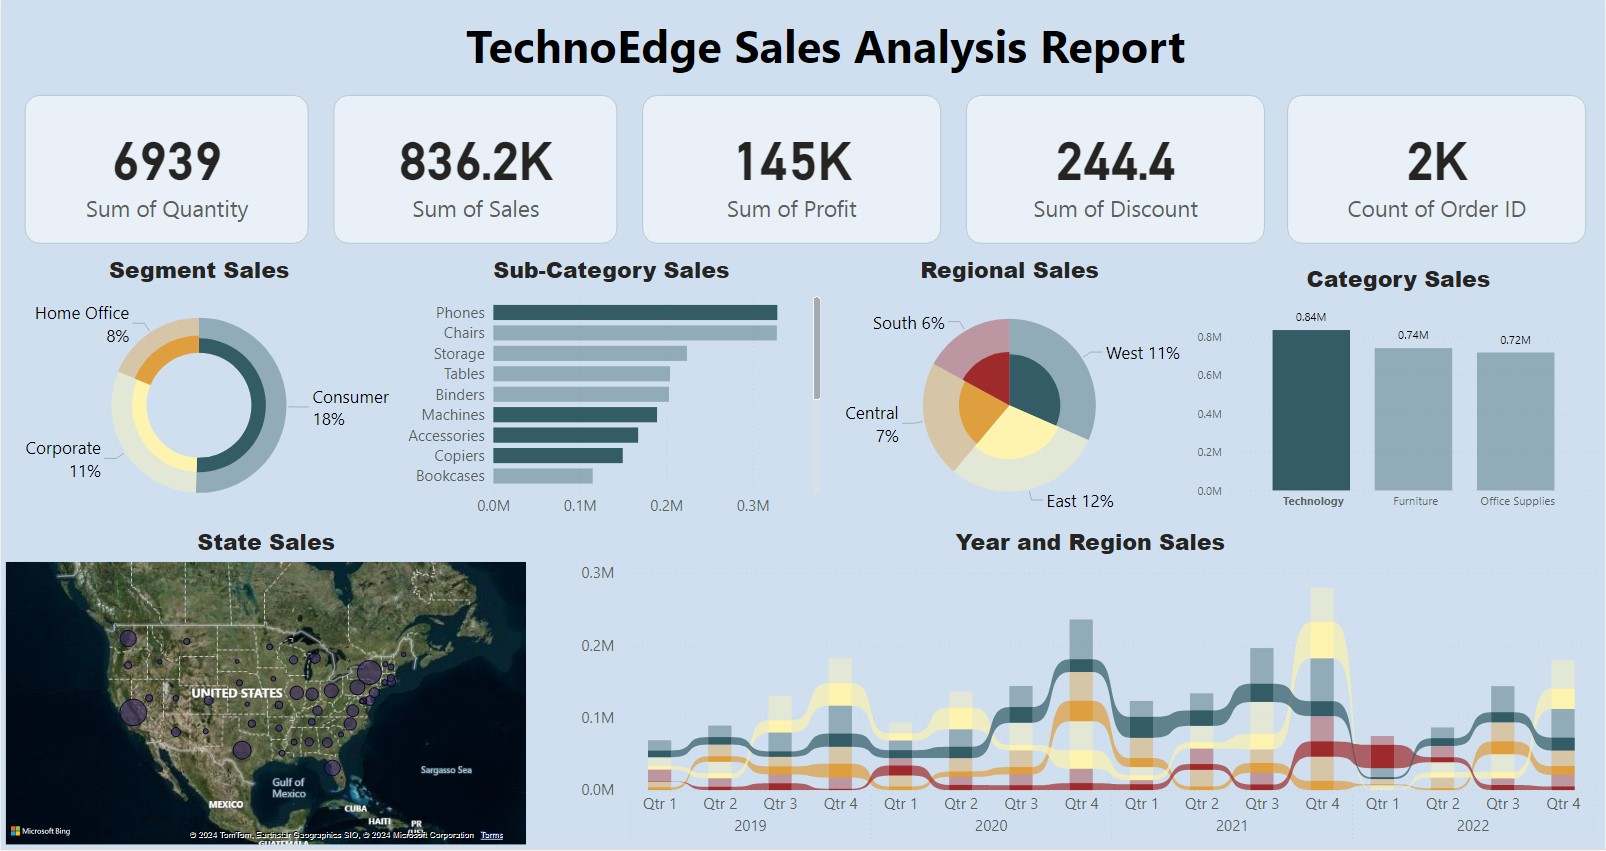

Layout of this report page (visuals, bound fields, positions):
{"tool":"powerbi","page":{"name":"Page 1","canvas":[1700,900],"ordinal":0},"visuals":[{"type":"barChart","title":"Sub-Category Sales","fields":{"Category":["Monthly Sales Data 2.Sub-Category"],"Y":["Sum(Monthly Sales Data 2.Sales)"]},"box":[420.1,268.7,454,288.8],"z":0},{"type":"pieChart","title":"Regional Sales","fields":{"Y":["Sum(Monthly Sales Data 2.Sales)"],"Category":["Monthly Sales Data 2.Region"]},"box":[874.1,268.7,389.2,288.8],"z":1},{"type":"donutChart","title":"Segment Sales","fields":{"Category":["Monthly Sales Data 2.Segment"],"Y":["Sum(Monthly Sales Data 2.Sales)"]},"box":[0,268.7,420.1,288.8],"z":2},{"type":"columnChart","title":"Category Sales","fields":{"Category":["Monthly Sales Data 2.Category"],"Y":["Sum(Monthly Sales Data 2.Sales)"]},"box":[1263.3,278,437,271.8],"z":3},{"type":"ribbonChart","title":"Year and Region Sales","fields":{"Category":["Monthly Sales Data 2.Order Date.Variation.Date Hierarchy.Year","Monthly Sales Data 2.Order Date.Variation.Date Hierarchy.Quarter","Monthly Sales Data 2.Order Date.Variation.Date Hierarchy.Month","Monthly Sales Data 2.Order Date.Variation.Date Hierarchy.Day"],"Y":["Sum(Monthly Sales Data 2.Sales)"],"Series":["Monthly Sales Data 2.Region"]},"box":[610,557.5,1090.3,342.8],"z":4},{"type":"actionButton","box":[461.8,6.2,826.2,88],"z":5},{"type":"map","title":"State Sales","fields":{"Category":["Monthly Sales Data 2.State"],"Size":["Sum(Monthly Sales Data 2.Sales)"]},"box":[0,557.5,562.1,342.8],"z":6},{"type":"card","fields":{"Values":["Sum(Monthly Sales Data 2.Sales)"]},"box":[352.1,100.4,301.1,157.5],"z":7},{"type":"card","fields":{"Values":["Sum(Monthly Sales Data 2.Discount)"]},"box":[1022.4,100.4,316.6,157.5],"z":8},{"type":"card","fields":{"Values":["Sum(Monthly Sales Data 2.Quantity)"]},"box":[24.7,100.4,301.1,157.5],"z":9},{"type":"card","fields":{"Values":["Sum(Monthly Sales Data 2.Profit)"]},"box":[679.5,100.4,316.6,157.5],"z":10},{"type":"card","fields":{"Values":["CountNonNull(Monthly Sales Data 2.Order ID)"]},"box":[1363.6,100.4,316.6,157.5],"z":11}]}

Visuals, with their boxes in screenshot pixels (x1, y1, x2, y2), scaled from the page's 1700x900 canvas onto the 1606x851 screenshot:
"Sub-Category Sales" barChart: bbox(397, 254, 826, 527)
"Regional Sales" pieChart: bbox(826, 254, 1193, 527)
"Segment Sales" donutChart: bbox(0, 254, 397, 527)
"Category Sales" columnChart: bbox(1193, 263, 1605, 520)
"Year and Region Sales" ribbonChart: bbox(576, 527, 1605, 850)
actionButton: bbox(436, 6, 1217, 89)
"State Sales" map: bbox(0, 527, 531, 850)
card - Sum(Monthly Sales Data 2.Sales): bbox(333, 95, 617, 244)
card - Sum(Monthly Sales Data 2.Discount): bbox(966, 95, 1265, 244)
card - Sum(Monthly Sales Data 2.Quantity): bbox(23, 95, 308, 244)
card - Sum(Monthly Sales Data 2.Profit): bbox(642, 95, 941, 244)
card - CountNonNull(Monthly Sales Data 2.Order ID): bbox(1288, 95, 1587, 244)
